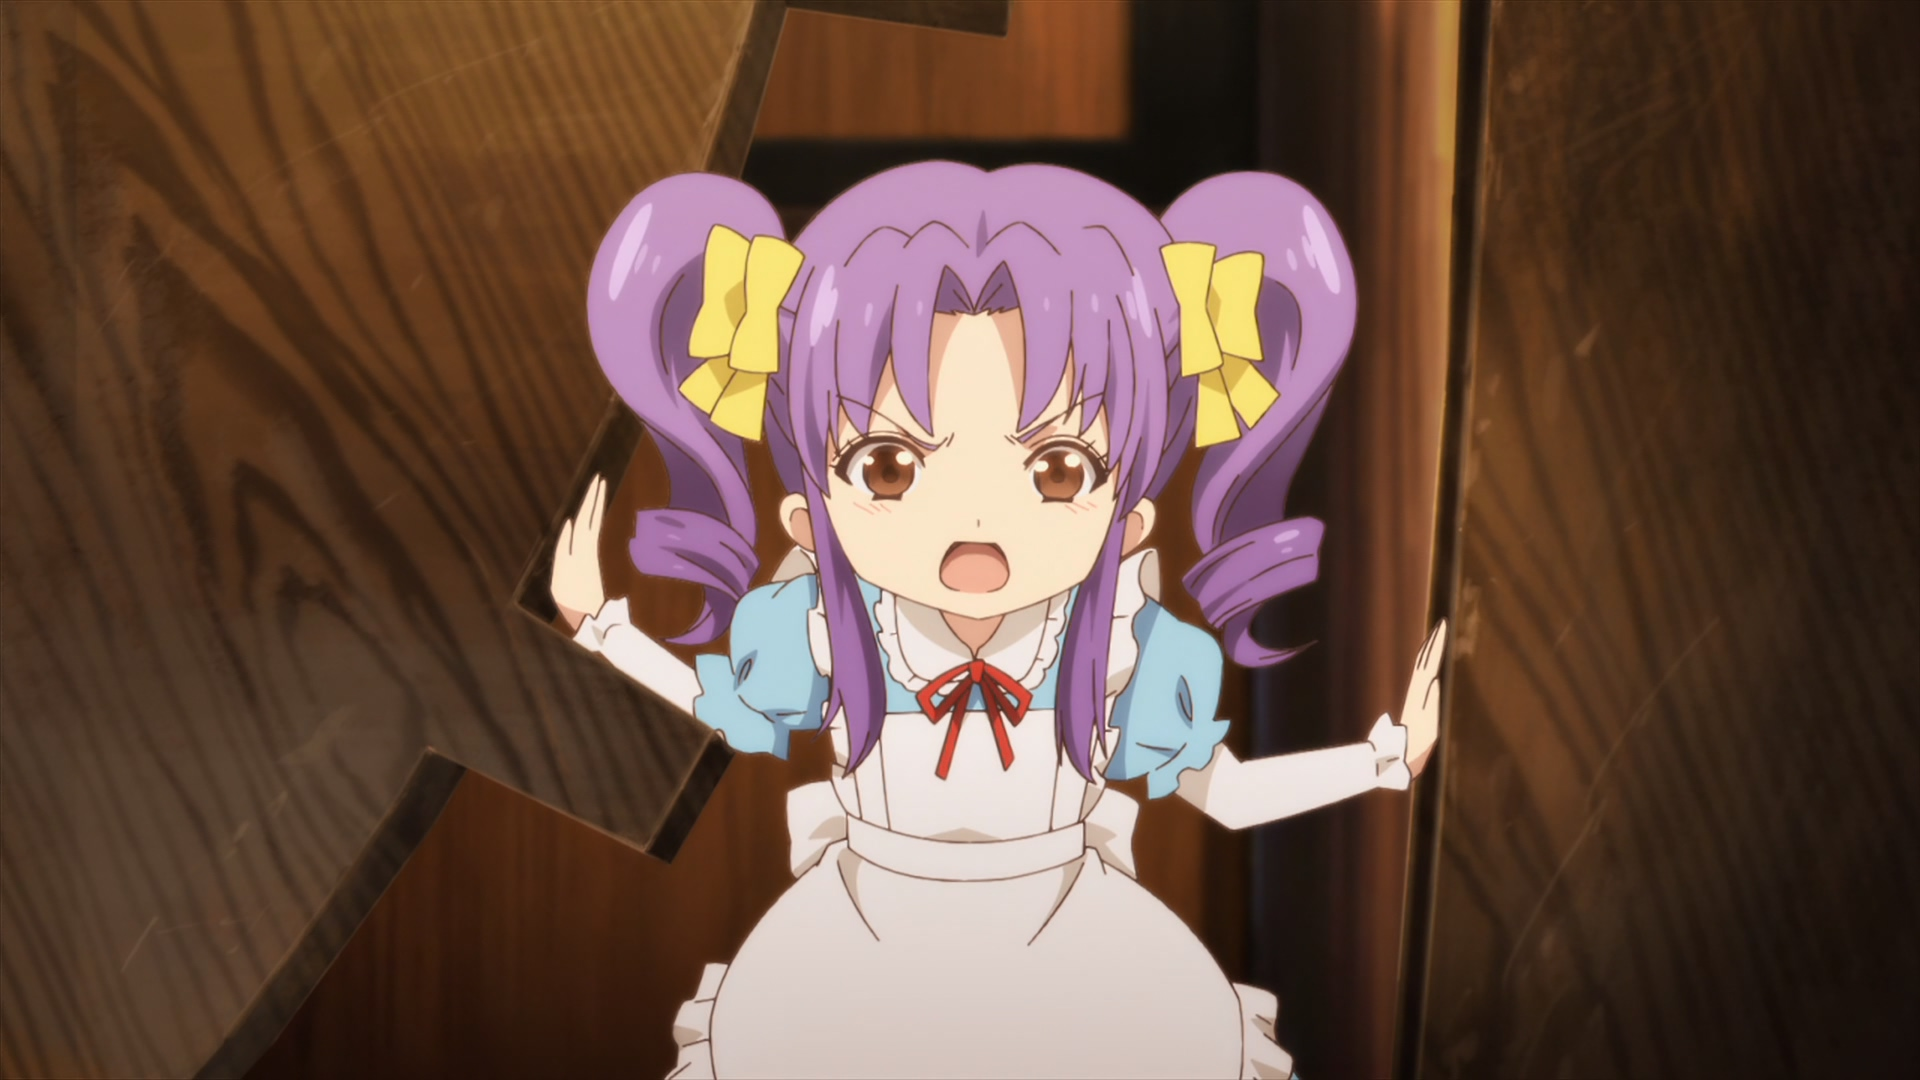阿菊: (553, 160, 1447, 1080)
